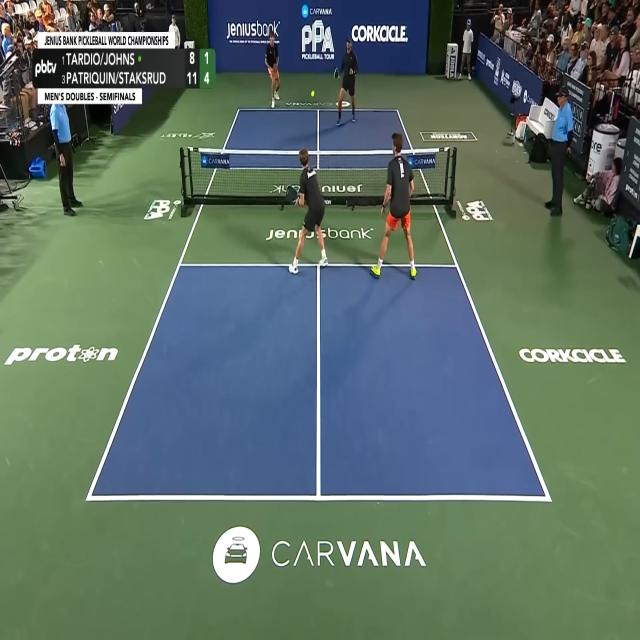ball: (310, 89, 315, 98)
